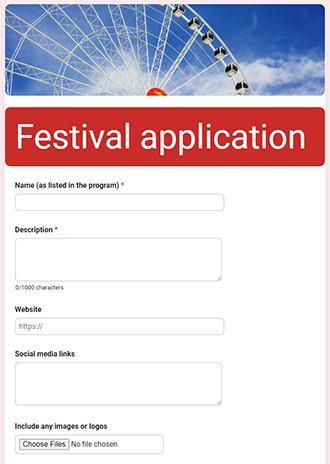button: (19, 439, 72, 454)
input: (16, 194, 226, 212), (17, 319, 226, 336), (16, 435, 165, 455)
label: (17, 124, 308, 158), (13, 422, 110, 433), (14, 182, 126, 191), (16, 350, 79, 361), (11, 224, 59, 237), (15, 306, 43, 315)
